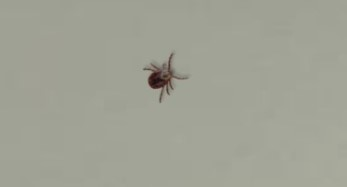garrapata: (127, 49, 197, 105)
